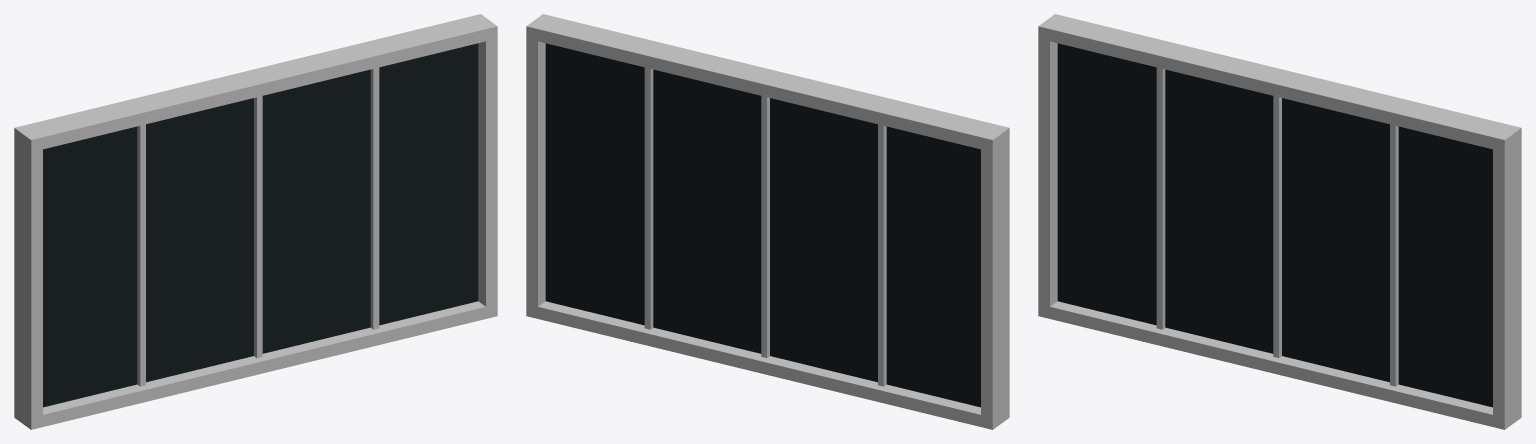
File: OA_Window_3p2x1p9.fbx
The picture shows the model from 3 angles, left to right: view 1: azimuth 30°, elevation 25°; view 2: azimuth 150°, elevation 25°; view 3: azimuth 330°, elevation 25°; orthographic projection.
Visible parts, largest first — view 1: OA_Window_3p2x1p9; view 2: OA_Window_3p2x1p9; view 3: OA_Window_3p2x1p9.
Boxes of the visible parts, <box> form: OA_Window_3p2x1p9: <box>14,14,497,429</box>; OA_Window_3p2x1p9: <box>526,14,1009,429</box>; OA_Window_3p2x1p9: <box>1038,14,1521,429</box>.
Bounding box in the file's own units: 3.2 × 1.9 × 0.2.
